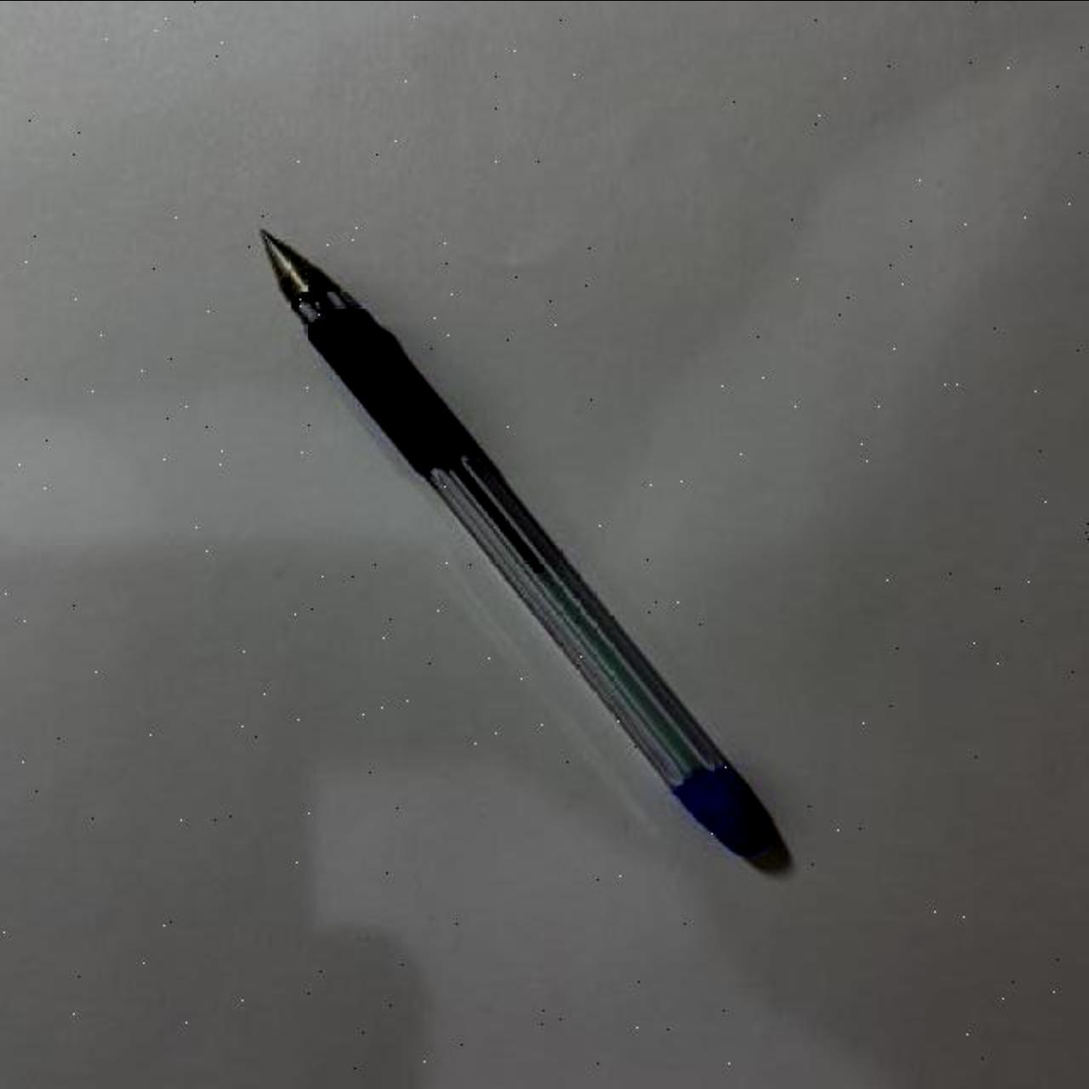pen: (247, 226, 776, 858)
